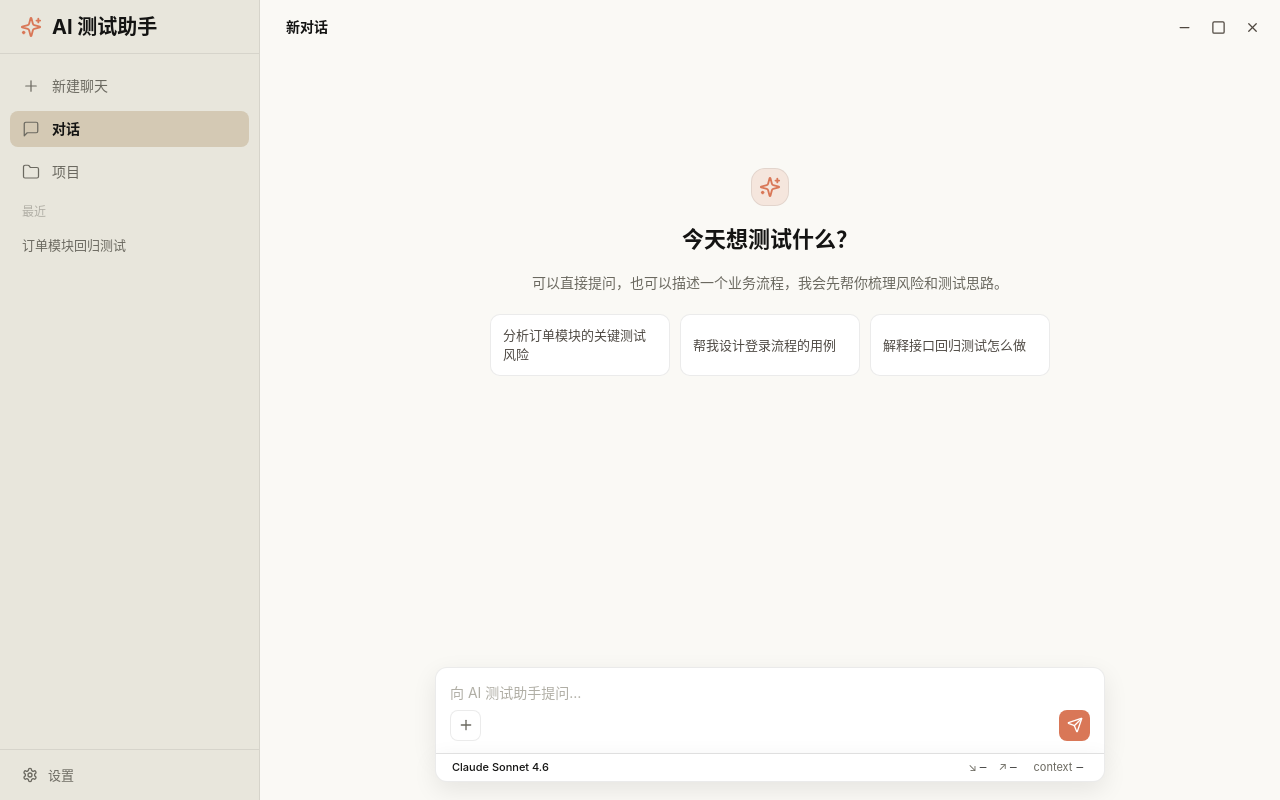
App backend integration › shows the confirm plan button only after a plan-ready event
In the text box named "消息输入": (770, 693) [450,682,1090,704], type "生成测试计划"
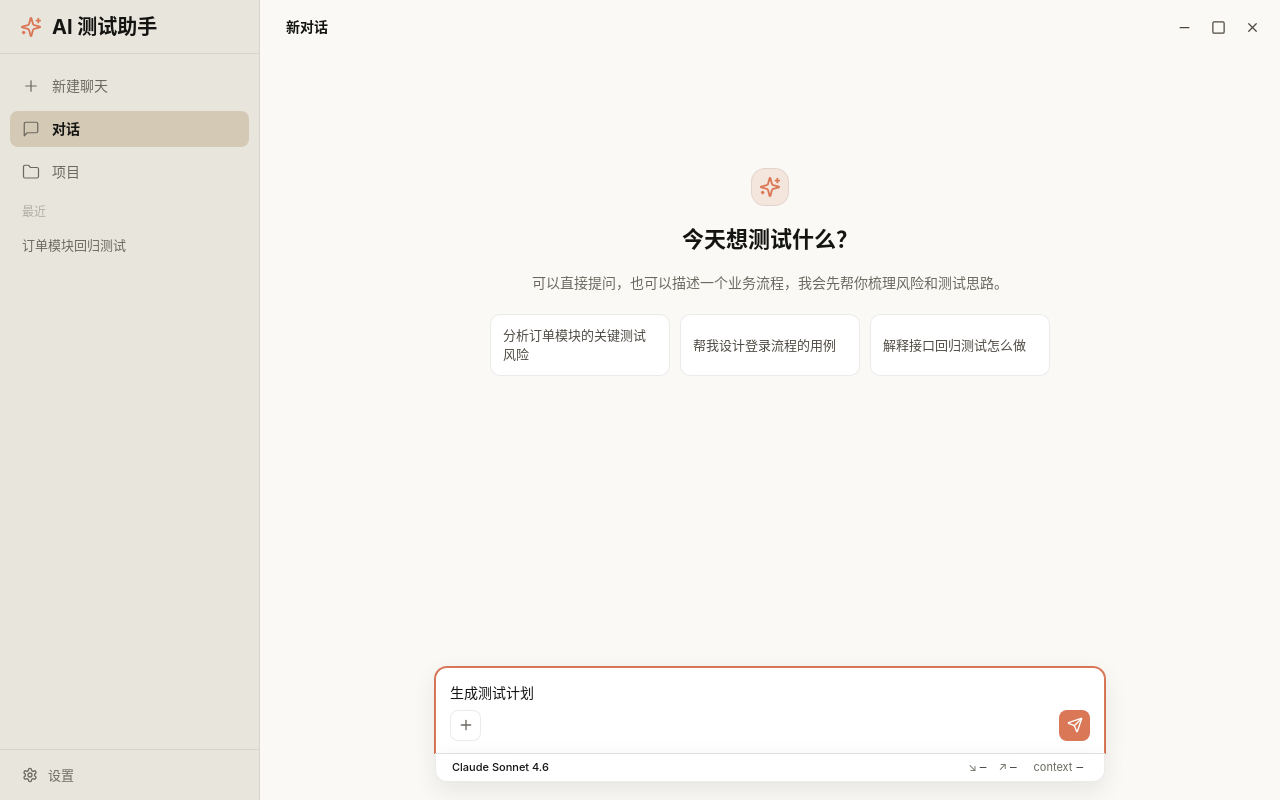
Click the button named "发送": click(1074, 725) [1059,710,1090,741]
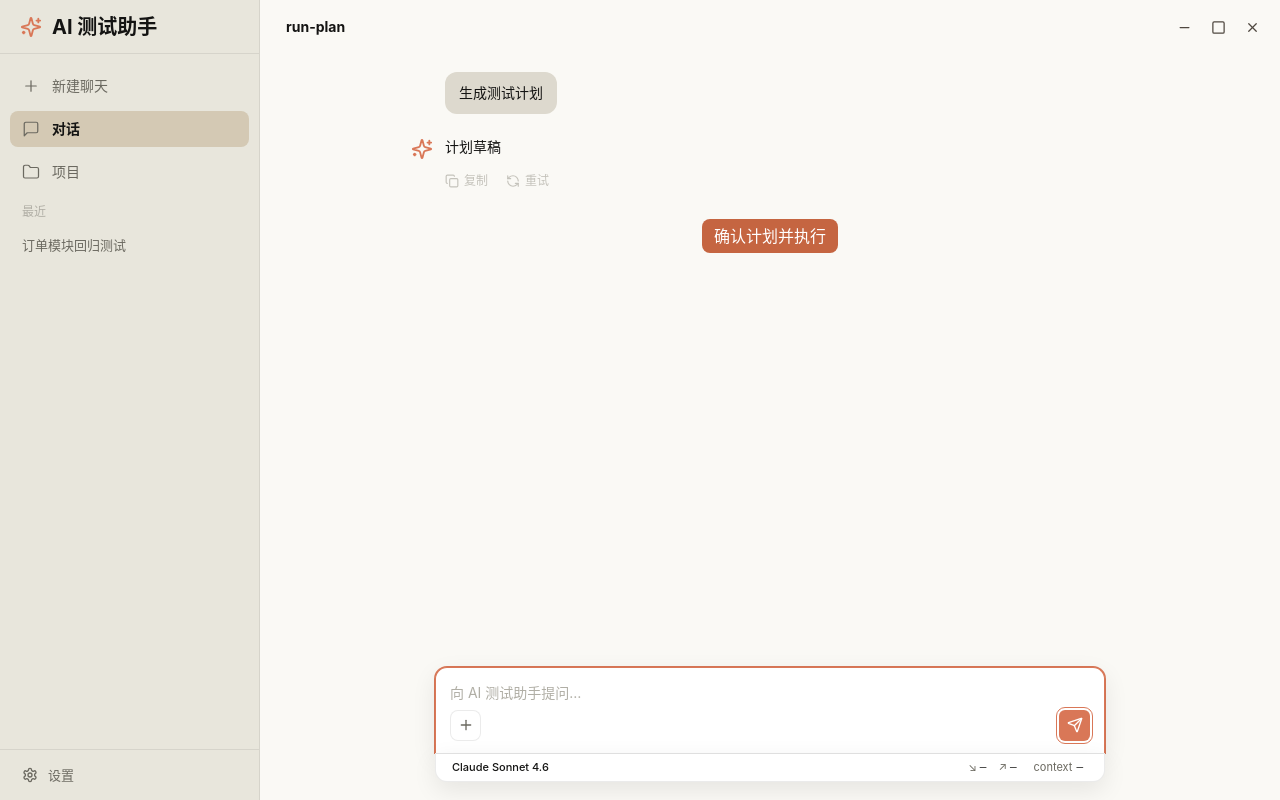
Result: the button "确认计划并执行" is shown at [702,219,838,253]
